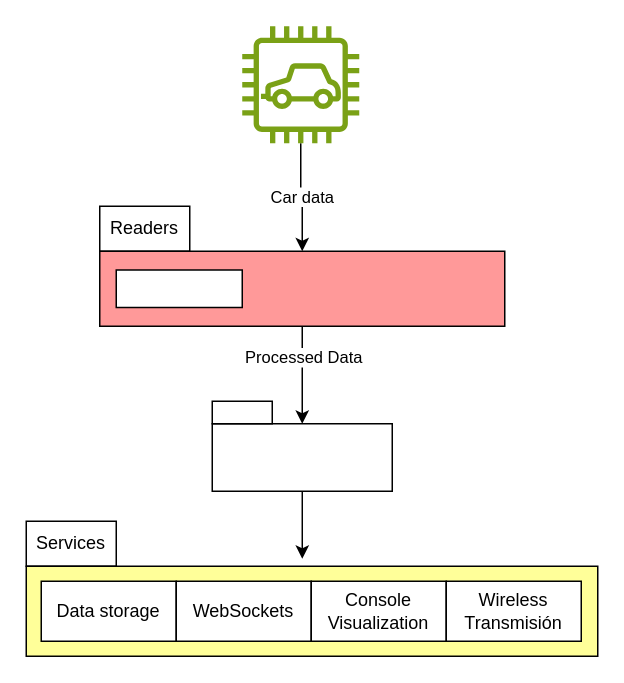
Image size: 624x683. Some labels were removed from this diagram. The shapes that lost their labels are listed below. From the top down, each one's box as (x1, y1, x2, y2) in pixels, then its label:
(115, 268, 242, 308): CANBUS
(211, 400, 272, 424): Data
